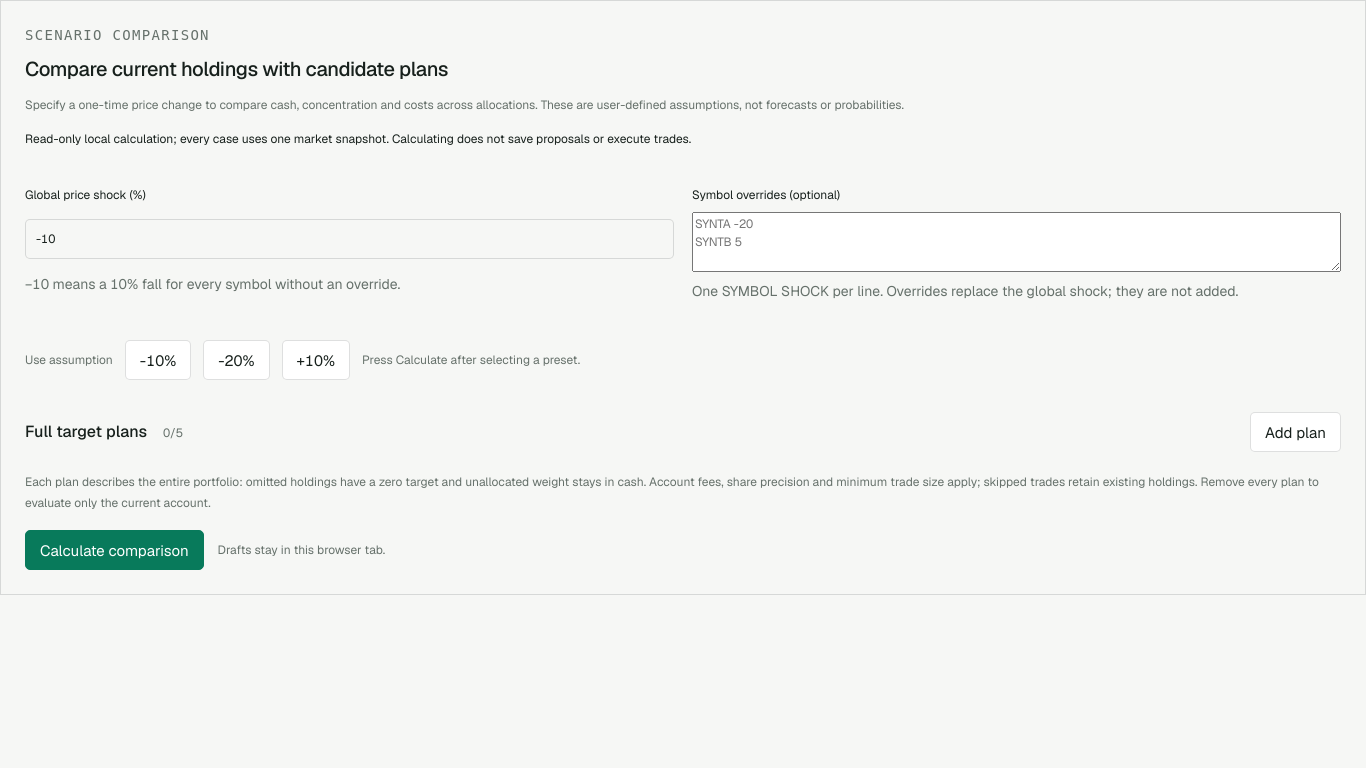
it: paper scenario comparison › preserves missing values and shows blocked plans and post-shock policy findings
Click the button "Calculate comparison": point(114, 550) [25, 530, 204, 570]
(page scrolled)
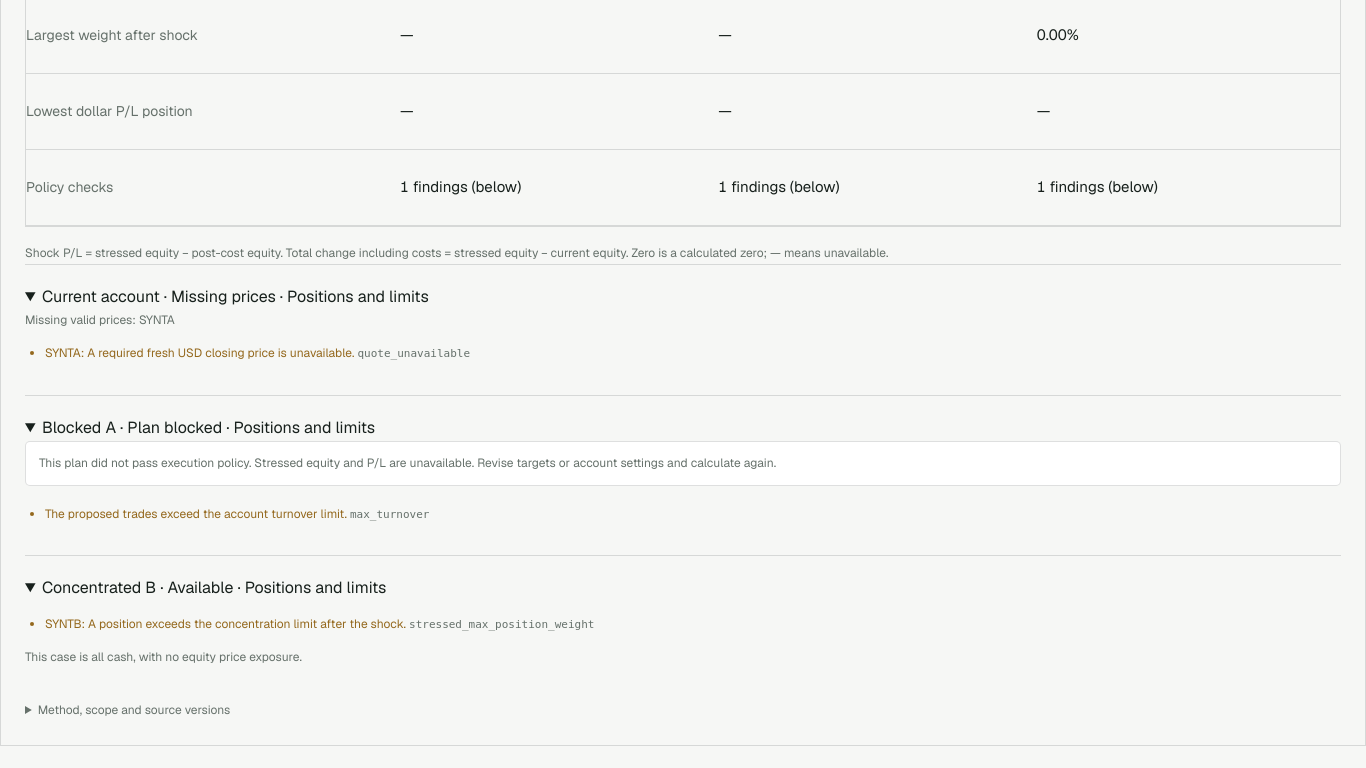
Result: the text "Missing valid prices: SYNTA" is shown at [25, 312, 175, 328]
Result: the text "This plan did not pass execution policy" is shown at [39, 455, 776, 471]
Result: the list item "exceed the account turnover limit" is shown at [45, 506, 347, 522]
